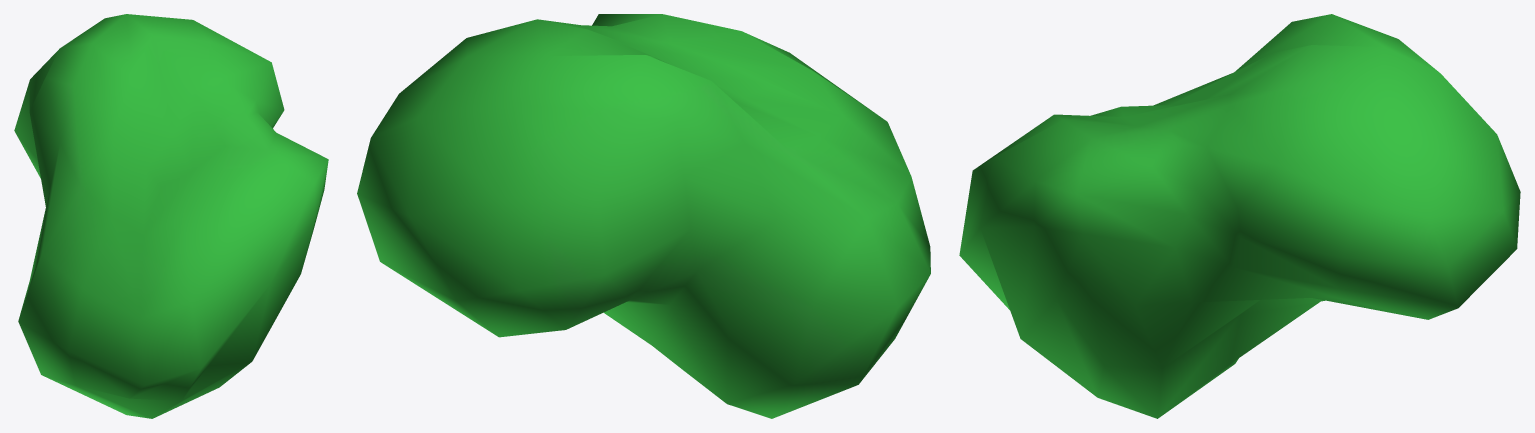
File: Tree Top 6.fbx
3 views of the same model, side by side, from view 1: azimuth 30°, elevation 25°; view 2: azimuth 150°, elevation 25°; view 3: azimuth 270°, elevation 25° (orthographic). The views are drawn at different scales.
Visible parts, largest first — view 1: Group26634; view 2: Group26634; view 3: Group26634.
Boxes of the visible parts, x1,y1,x2,y2 form: Group26634: (14, 14, 328, 418); Group26634: (357, 14, 930, 418); Group26634: (959, 14, 1520, 418).
Size of the model in its own units: 0.8313 by 0.7912 by 0.9982.
1 material, 1 textured.
